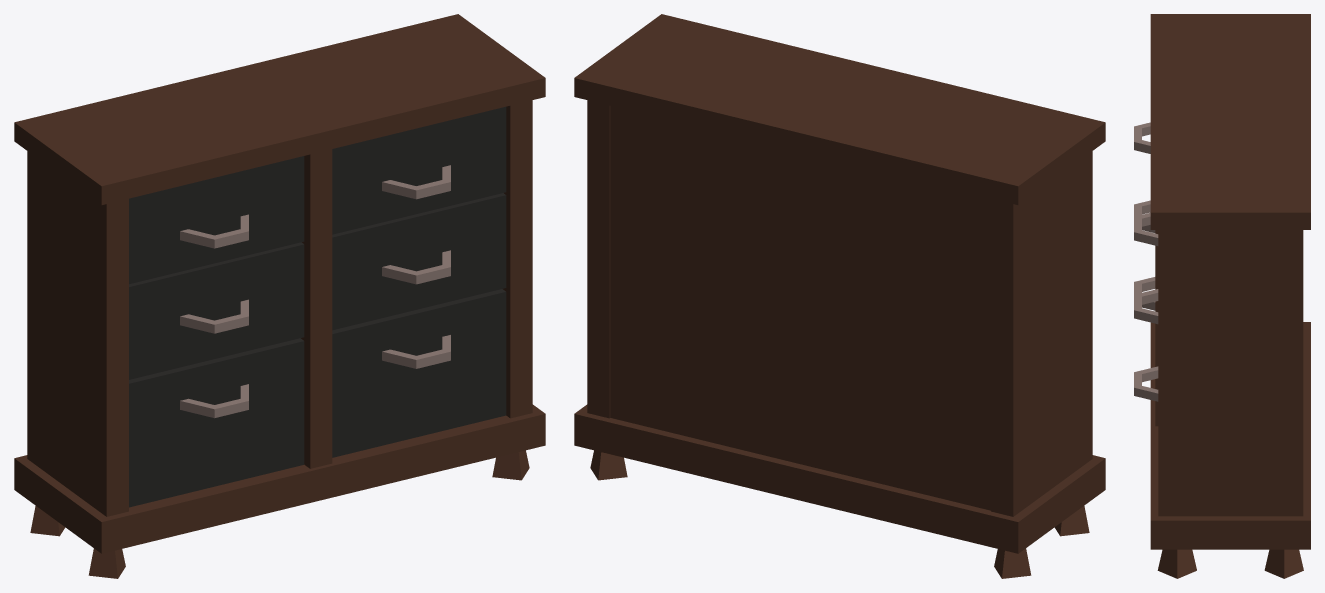
The model's file is Drawer_1B.fbx.
3 views of the same model, side by side, from view 1: azimuth 30°, elevation 25°; view 2: azimuth 150°, elevation 25°; view 3: azimuth 270°, elevation 25° (orthographic). The views are drawn at different scales.
Parts seen in each view (by area): view 1: polySurface1691; view 2: polySurface1691; view 3: polySurface1691.
Boxes of the visible parts, left/top/right/bottom form: polySurface1691: left=14, top=14, right=545, bottom=578; polySurface1691: left=574, top=14, right=1105, bottom=578; polySurface1691: left=1134, top=14, right=1310, bottom=578.
Bounding box in the file's own units: 2.2 × 1.9 × 0.8282.
Materials: 1 (1 with a texture image).
